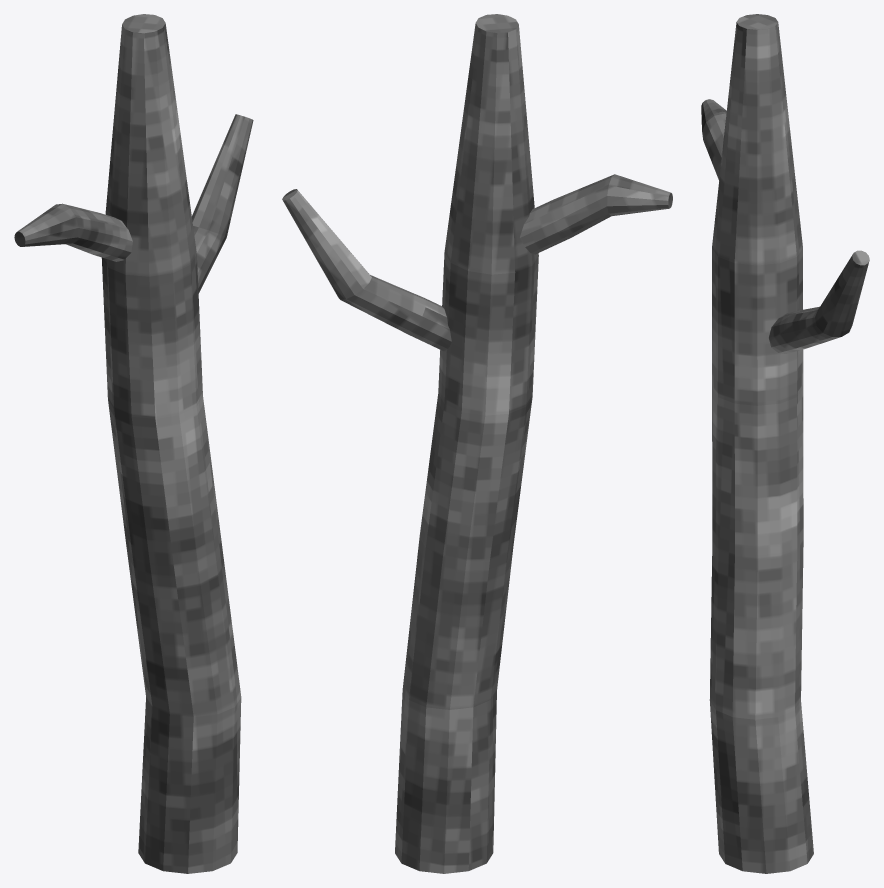
The model's file is Mod_Stick.fbx.
3 views of the same model, side by side, from view 1: azimuth 30°, elevation 25°; view 2: azimuth 150°, elevation 25°; view 3: azimuth 270°, elevation 25° (orthographic). The views are drawn at different scales.
Parts seen in each view (by area): view 1: Cylinder; view 2: Cylinder; view 3: Cylinder.
Part boxes in pixels (x1,y1,x2,y2): Cylinder: [14, 14, 253, 873]; Cylinder: [282, 14, 672, 873]; Cylinder: [701, 14, 869, 873].
Bounding box in the file's own units: 627 × 1620 × 306.
